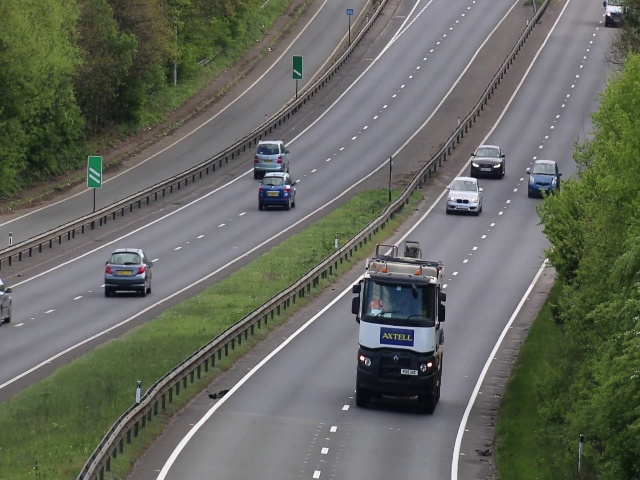car: (351, 260, 444, 418), (104, 247, 152, 298), (445, 175, 483, 217), (259, 170, 297, 212), (252, 141, 292, 177), (528, 158, 561, 200), (469, 143, 506, 179), (1, 271, 11, 325)
